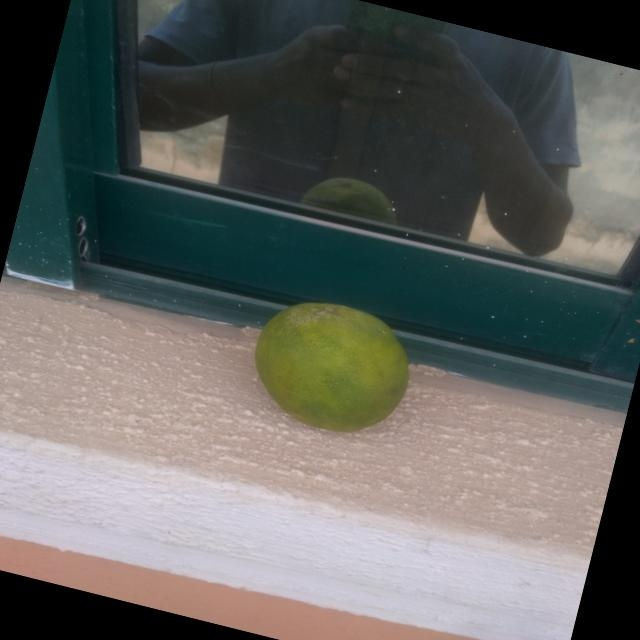agrume: (228, 276, 432, 449)
